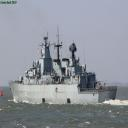Fragata: (8, 26, 119, 107)
